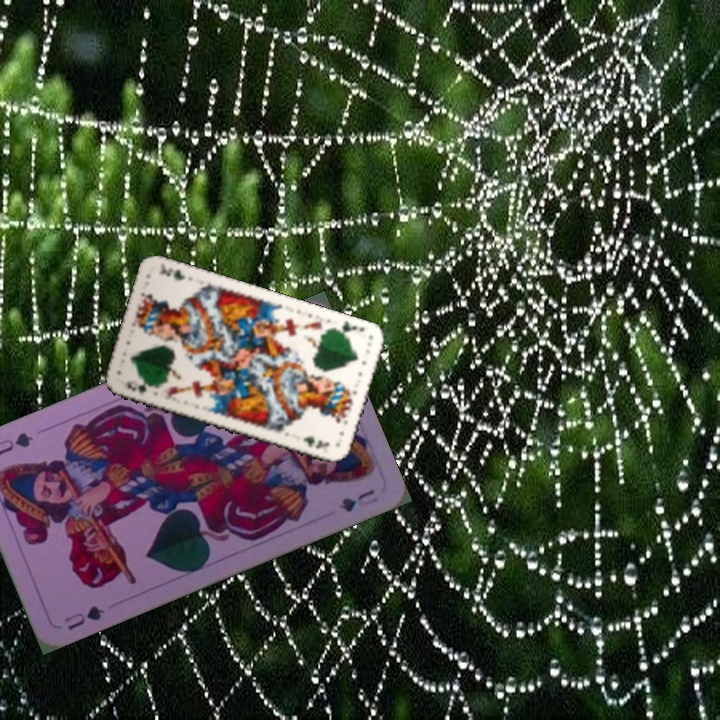GK: (332, 317, 367, 339), (122, 377, 158, 396)
GU: (60, 601, 108, 634)
